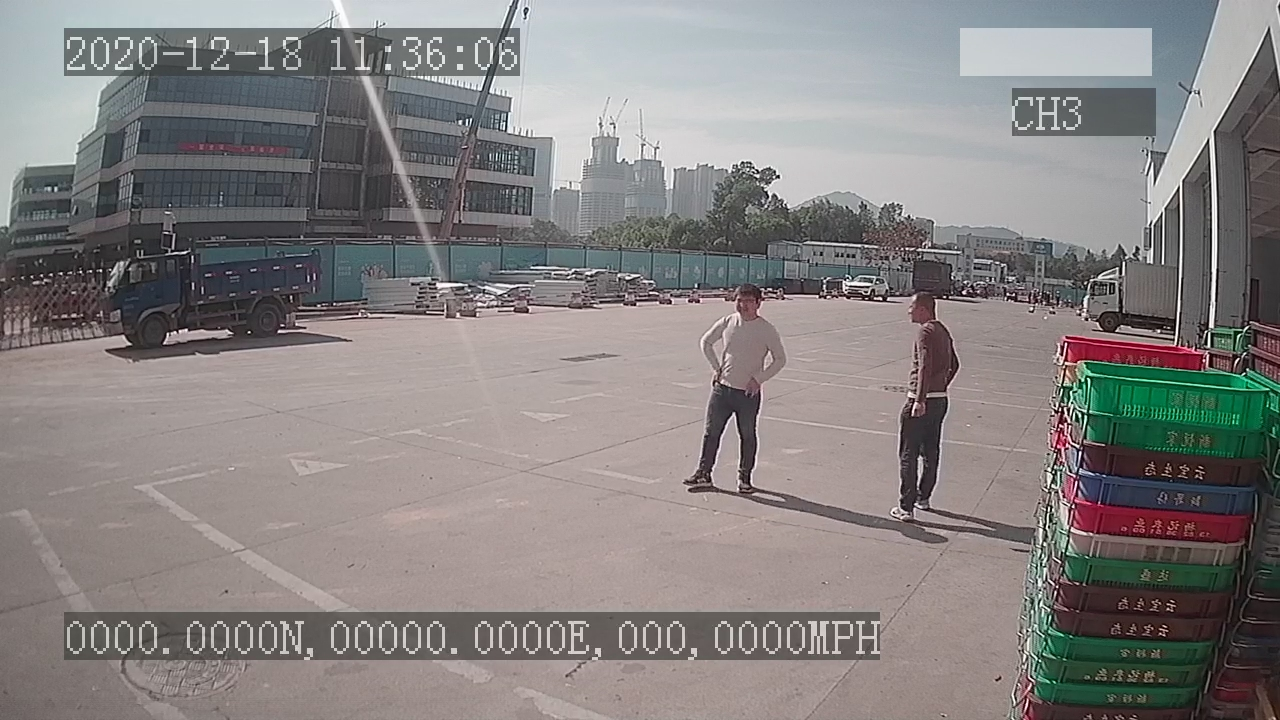person: (680, 282, 788, 499), (880, 292, 964, 519)
